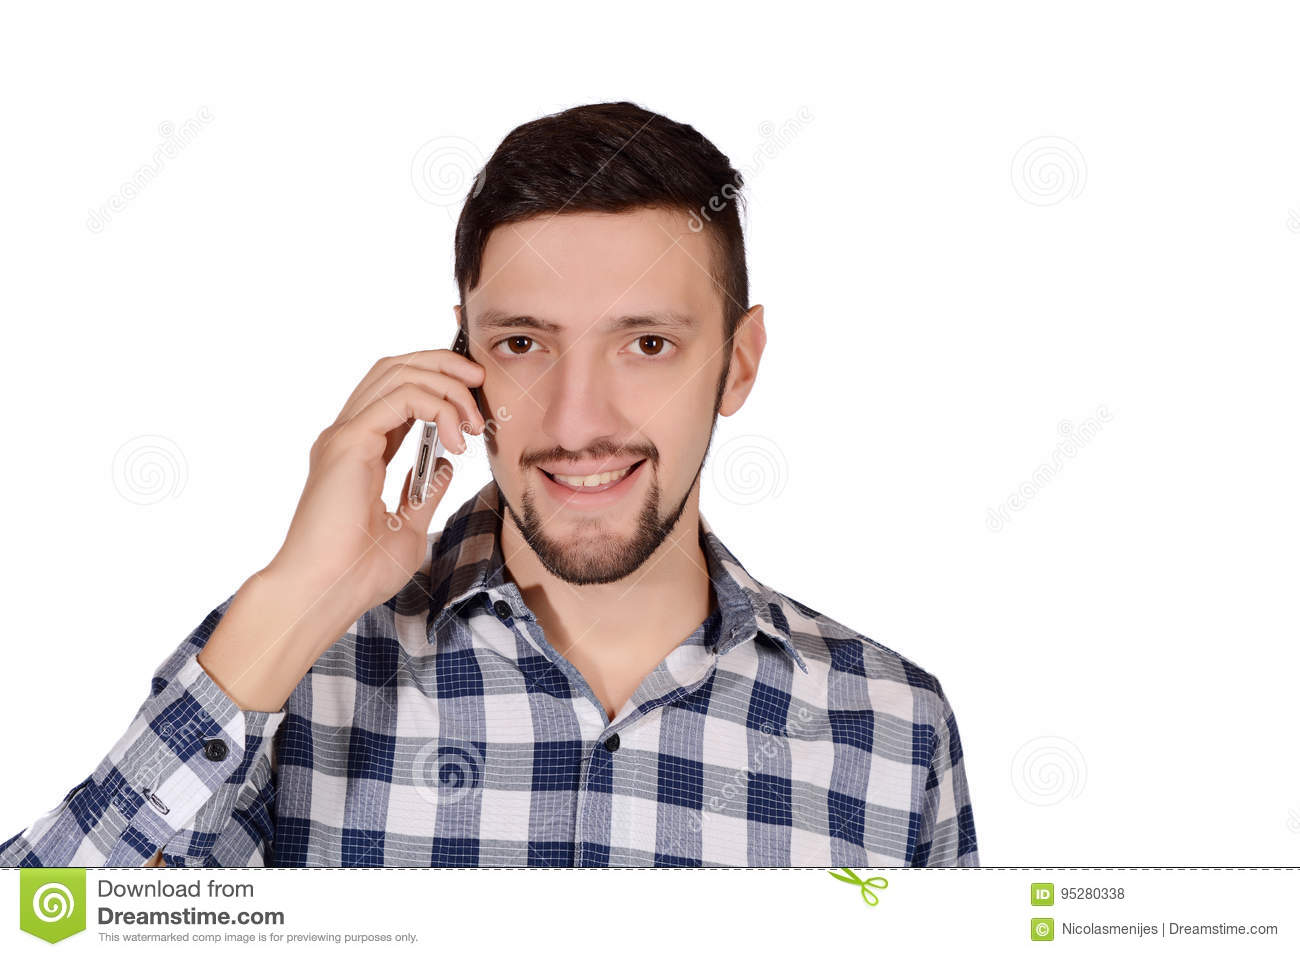phone: (396, 311, 474, 515)
talk: (283, 296, 702, 622)
